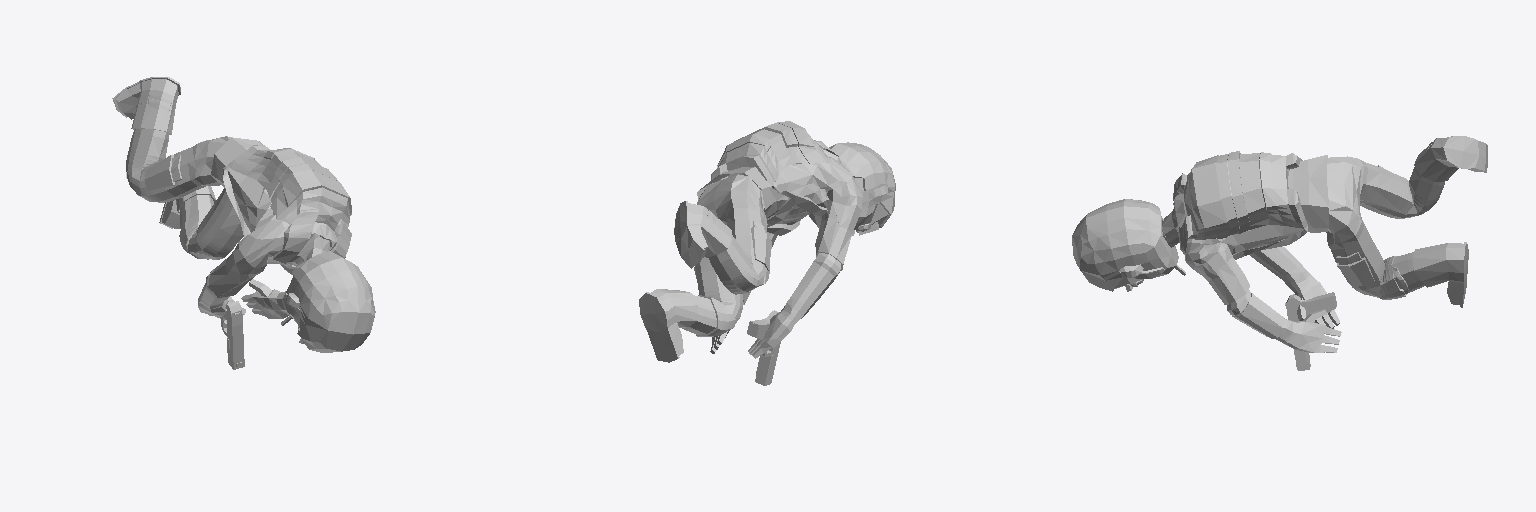
The model's file is frame_0050.obj.
3 renders of one model, left to right at view 1: azimuth 30°, elevation 25°; view 2: azimuth 150°, elevation 25°; view 3: azimuth 270°, elevation 25°, orthographic.
Parts seen in each view (by area): view 1: Body, Gun; view 2: Body, Gun; view 3: Body, Gun.
Part boxes in pixels (bbox=[...]): Body: bbox=[112, 77, 375, 352]; Gun: bbox=[221, 296, 244, 369]; Body: bbox=[639, 121, 895, 362]; Gun: bbox=[747, 310, 780, 385]; Body: bbox=[1072, 136, 1487, 352]; Gun: bbox=[1285, 292, 1336, 370].
Size of the model in its own units: 1.25 by 2.31 by 3.68.